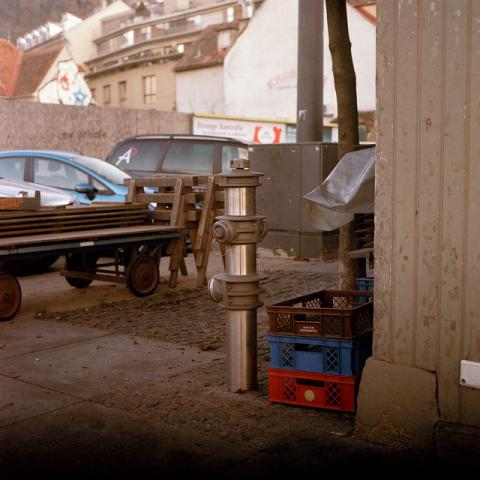car: (0, 149, 156, 213), (110, 138, 252, 201), (0, 175, 81, 210)
